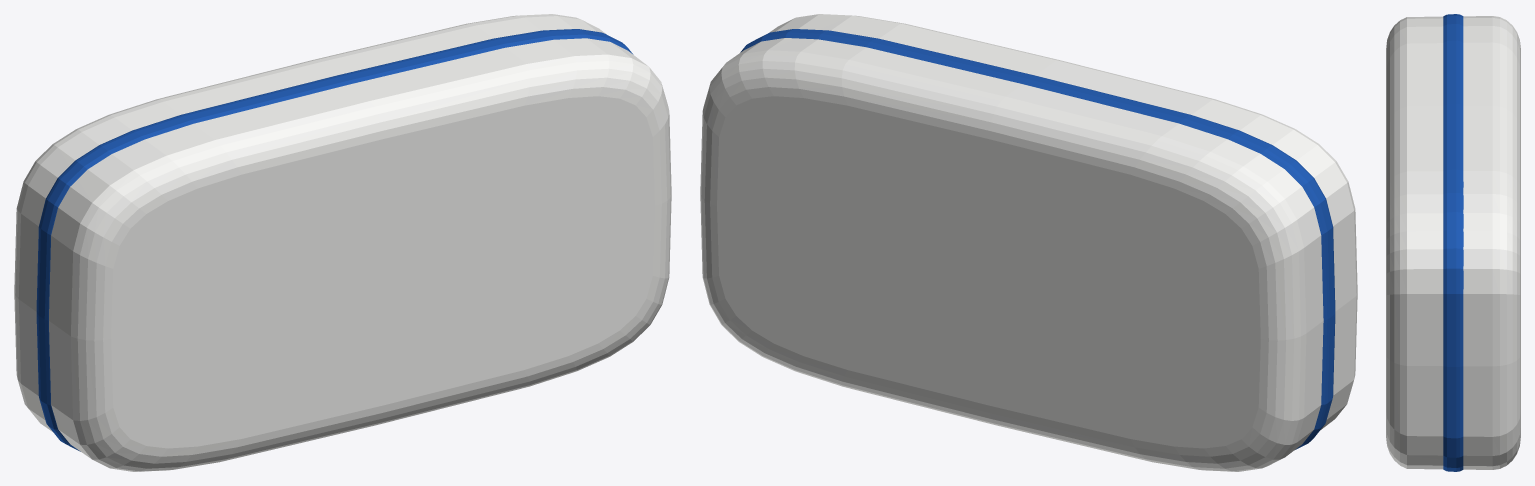
The model's file is lencos_de_papel_bolso.obj.
3 renders of one model, left to right at view 1: azimuth 30°, elevation 25°; view 2: azimuth 150°, elevation 25°; view 3: azimuth 270°, elevation 25°, orthographic. The views are drawn at different scales.
Visible parts, largest first — view 1: lencos_de_papel_bolso_pacote, lencos_de_papel_bolso_faixa; view 2: lencos_de_papel_bolso_pacote, lencos_de_papel_bolso_faixa; view 3: lencos_de_papel_bolso_pacote, lencos_de_papel_bolso_faixa.
Boxes of the visible parts, box(x1,y1,x2,y2) form: lencos_de_papel_bolso_pacote: box(14, 14, 671, 471); lencos_de_papel_bolso_faixa: box(36, 29, 633, 451); lencos_de_papel_bolso_pacote: box(700, 14, 1357, 471); lencos_de_papel_bolso_faixa: box(740, 29, 1335, 449); lencos_de_papel_bolso_pacote: box(1386, 16, 1520, 469); lencos_de_papel_bolso_faixa: box(1443, 14, 1463, 471).
Size of the model in its own units: 105 by 54.6 by 24.
